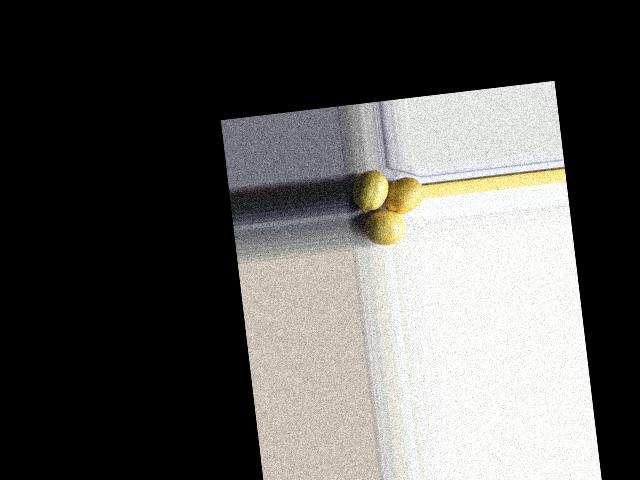lemon: (359, 210, 407, 248)
